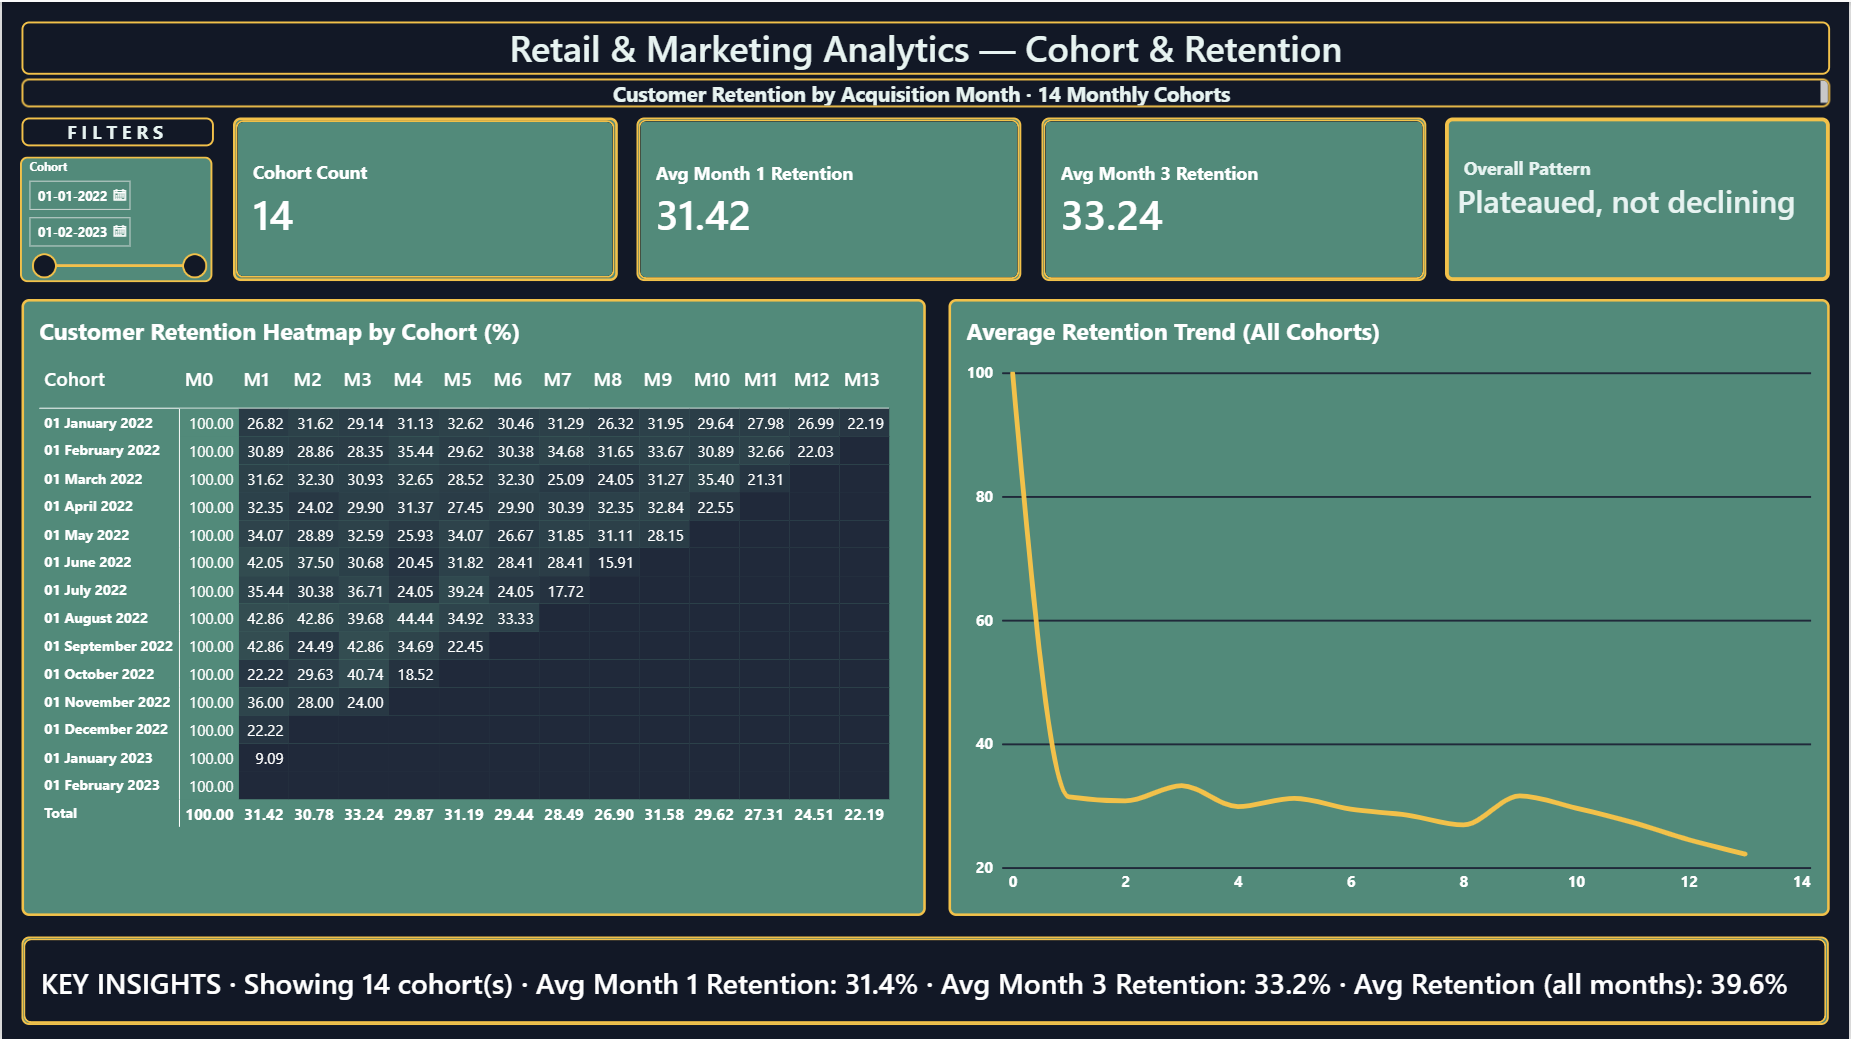

The page's visual inventory and layout, read from the dashboard file:
{"tool":"powerbi","page":{"name":"Cohort & Retention","canvas":[1920,1080],"ordinal":3},"visuals":[{"type":"textbox","box":[20,20,1880,55],"z":0},{"type":"textbox","box":[20,80,1880,30],"z":1000},{"type":"cardVisual","fields":{"Data":["cohort_retention.Cohort Count"]},"box":[240,120,400,170],"z":2000},{"type":"cardVisual","title":"Avg Month 1 Retention","fields":{"Data":["cohort_retention.Avg M1 Retention Rate"]},"box":[660,120,400,170],"z":3000},{"type":"cardVisual","fields":{"Data":["cohort_retention.Avg M3 Retention Rate"]},"box":[1080,120,400,170],"z":4000},{"type":"textbox","box":[1500,120,400,170],"z":5000},{"type":"pivotTable","title":"Customer Retention Heatmap by Cohort (%)","fields":{"Values":["Avg(cohort_retention.Retention_Pct)"],"Rows":["cohort_retention.Cohort"],"Columns":["cohort_retention.Month_Label"]},"box":[20.9,309.4,940.3,641.4],"z":6000},{"type":"lineChart","title":"Average Retention Trend (All Cohorts)","fields":{"Category":["cohort_retention.Month_Index"],"Y":["Avg(cohort_retention.Retention_Pct)"]},"box":[983.8,309.4,916,641.4],"z":7000},{"type":"cardVisual","fields":{"Data":["cohort_retention.Dynamic Retention Insight"]},"box":[20.9,971.6,1878.9,92.1],"z":8000},{"type":"textbox","box":[20,120,200,30],"z":9000},{"type":"slicer","fields":{"Values":["cohort_retention.Cohort"]},"box":[19.1,159.9,199.9,130.4],"z":10000}]}

Visuals, with their boxes in screenshot pixels (x1, y1, x2, y2), scaled from the page's 1920x1080 canvas onto the 1851x1039 screenshot:
textbox: detection(19, 19, 1832, 72)
textbox: detection(19, 77, 1832, 106)
cardVisual - cohort_retention.Cohort Count: detection(231, 115, 617, 279)
"Avg Month 1 Retention" cardVisual: detection(636, 115, 1022, 279)
cardVisual - cohort_retention.Avg M3 Retention Rate: detection(1041, 115, 1427, 279)
textbox: detection(1446, 115, 1832, 279)
"Customer Retention Heatmap by Cohort (%)" pivotTable: detection(20, 298, 927, 915)
"Average Retention Trend (All Cohorts)" lineChart: detection(948, 298, 1832, 915)
cardVisual - cohort_retention.Dynamic Retention Insight: detection(20, 935, 1832, 1023)
textbox: detection(19, 115, 212, 144)
slicer - cohort_retention.Cohort: detection(18, 154, 211, 279)
